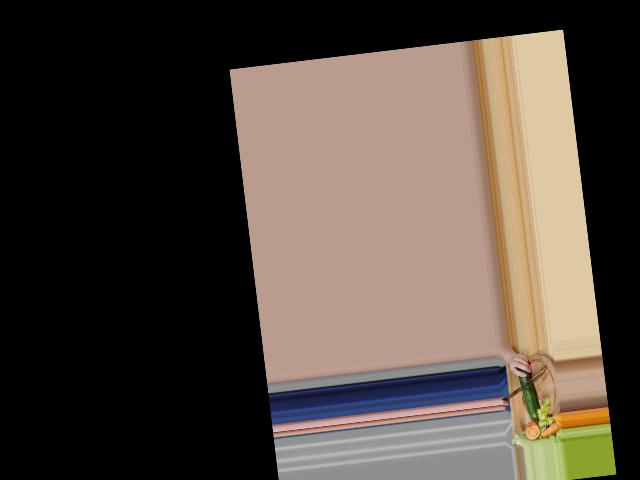cucumber: (517, 366, 540, 421)
